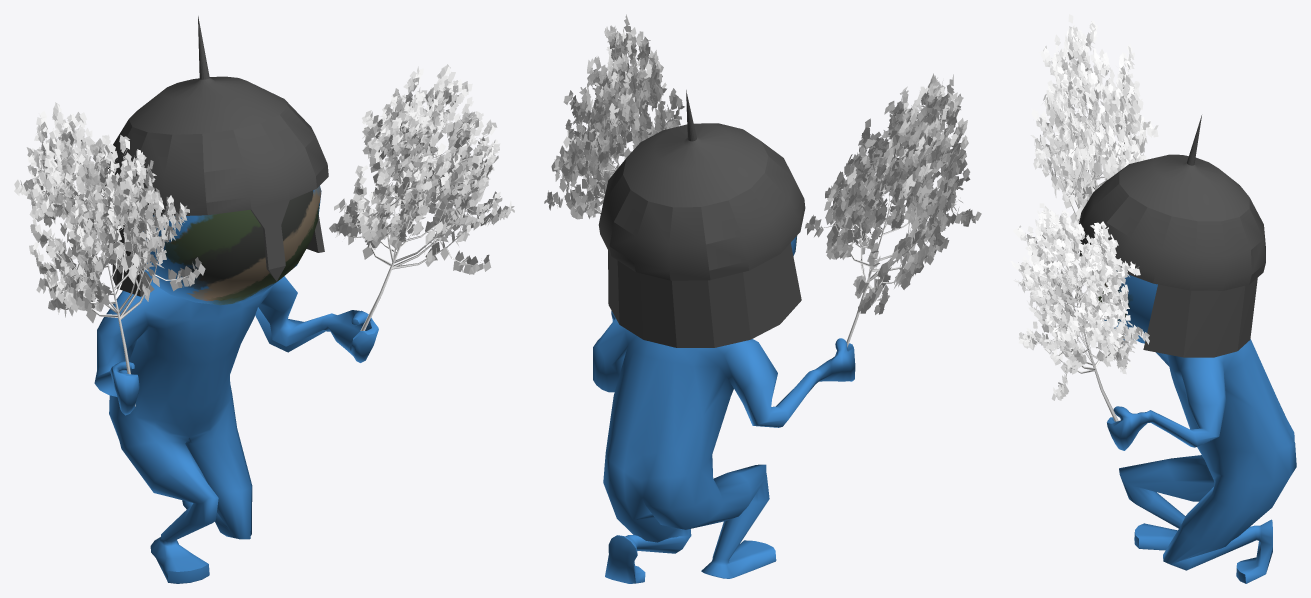
The model's file is finno_burrow.obj.
The picture shows the model from 3 angles, left to right: view 1: azimuth 30°, elevation 25°; view 2: azimuth 150°, elevation 25°; view 3: azimuth 270°, elevation 25°; orthographic projection. The views are drawn at different scales.
Visible parts, largest first — view 1: Virtual_Man, Sphere01, tree1, tree2; view 2: Sphere01, Virtual_Man, tree1, tree2; view 3: Virtual_Man, Sphere01, tree2, tree1.
Part boxes in pixels (box(x1,y1,x2,y2)): Virtual_Man: box(94, 186, 378, 583); Sphere01: box(103, 16, 328, 296); tree1: box(14, 102, 205, 406); tree2: box(329, 64, 514, 330); Sphere01: box(598, 90, 805, 347); Virtual_Man: box(593, 236, 855, 583); tree1: box(805, 73, 981, 347); tree2: box(544, 14, 684, 219); Virtual_Man: box(1079, 242, 1296, 583); Sphere01: box(1078, 115, 1265, 357); tree2: box(1010, 203, 1149, 421); tree1: box(1030, 14, 1158, 326).
Size of the model in its own units: 1.61 by 1.85 by 1.05.
